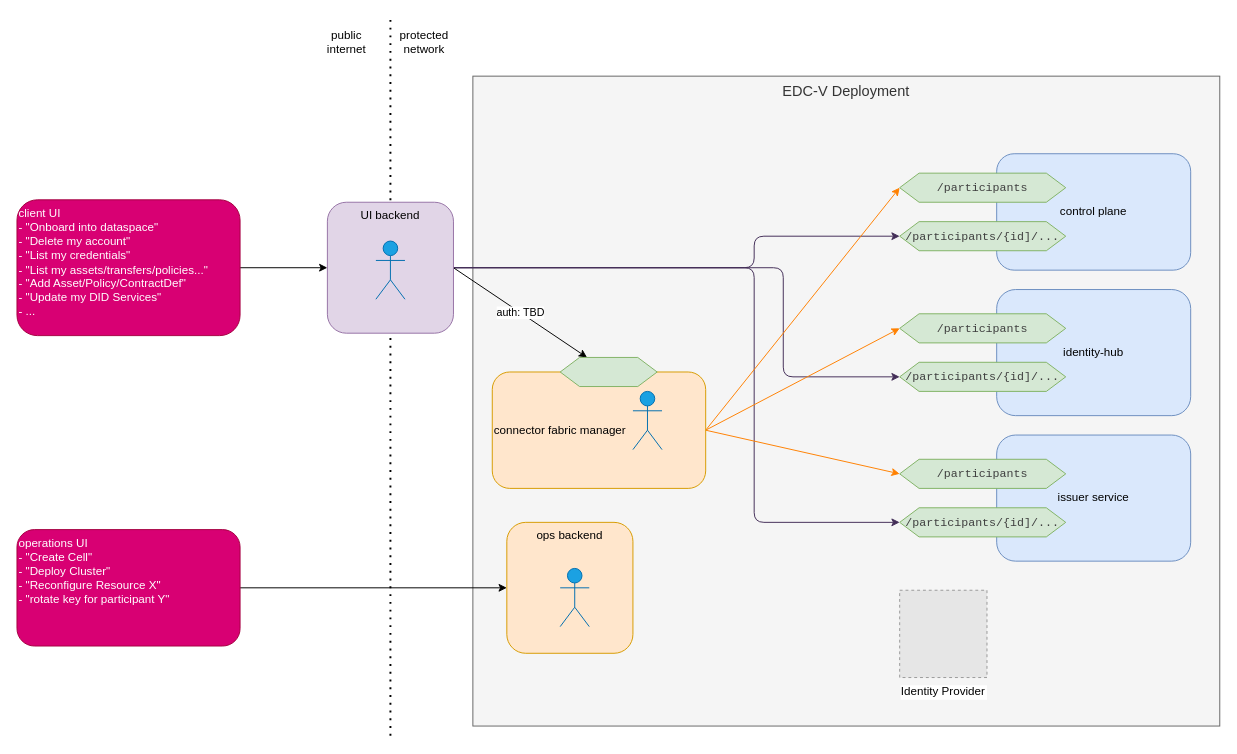
Some shapes in this 1237 by 754 pixel diagram are drawn without their labels. Grey dashed boxes stand in for pictures. The centre of each missing label's shape, as x and y in pixels:
CFM API: [608,371]
operator: [574,597]
participant: [390,269]
tenant-mgr: [647,420]
